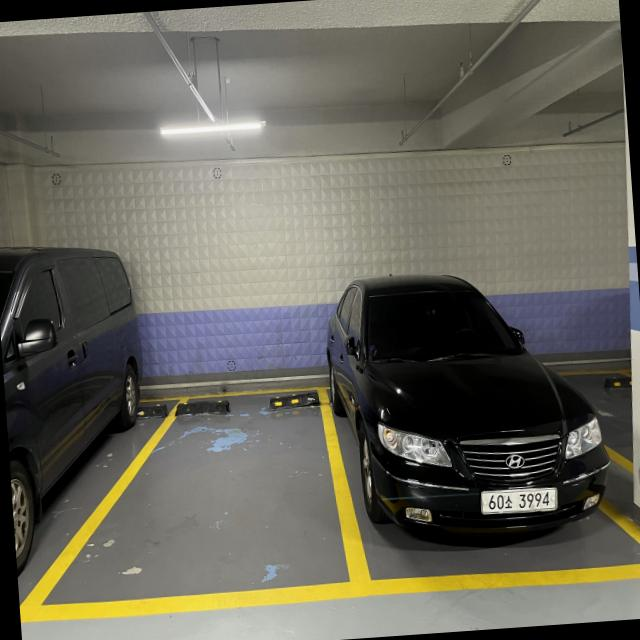car: (327, 242, 630, 564)
free: (21, 376, 382, 625)
